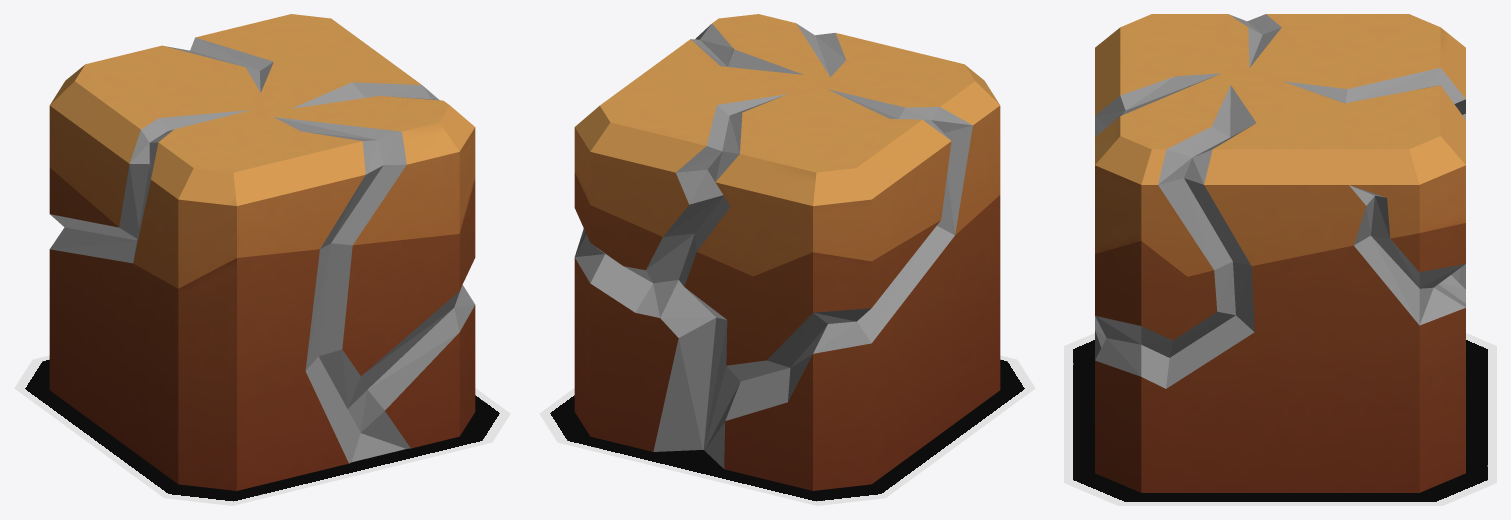
The model's file is breakable_wall.FBX.
3 views of the same model, side by side, from view 1: azimuth 30°, elevation 25°; view 2: azimuth 150°, elevation 25°; view 3: azimuth 270°, elevation 25° (orthographic). The views are drawn at different scales.
Visible parts, largest first — view 1: breakable_wall, 1x1_ground_soft_shadow; view 2: breakable_wall, 1x1_ground_soft_shadow; view 3: breakable_wall, 1x1_ground_soft_shadow.
Boxes of the visible parts, x1=… form: breakable_wall: x1=49, y1=14, x2=475, y2=490; 1x1_ground_soft_shadow: x1=14, y1=355, x2=510, y2=505; breakable_wall: x1=574, y1=14, x2=1000, y2=490; 1x1_ground_soft_shadow: x1=539, y1=355, x2=1035, y2=505; breakable_wall: x1=1095, y1=14, x2=1465, y2=492; 1x1_ground_soft_shadow: x1=1064, y1=333, x2=1496, y2=505.
Bounding box in the file's own units: 1166 × 1000 × 1166.
